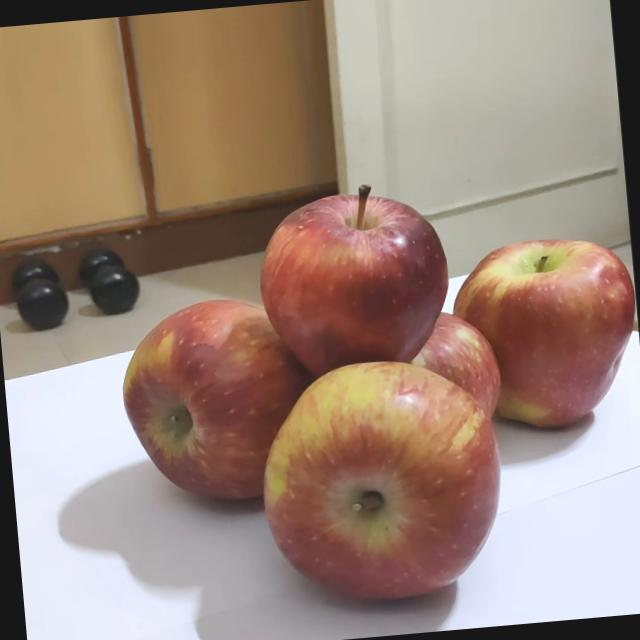apple: (264, 334, 544, 616), (112, 284, 328, 514), (260, 163, 475, 391), (441, 211, 640, 430)
